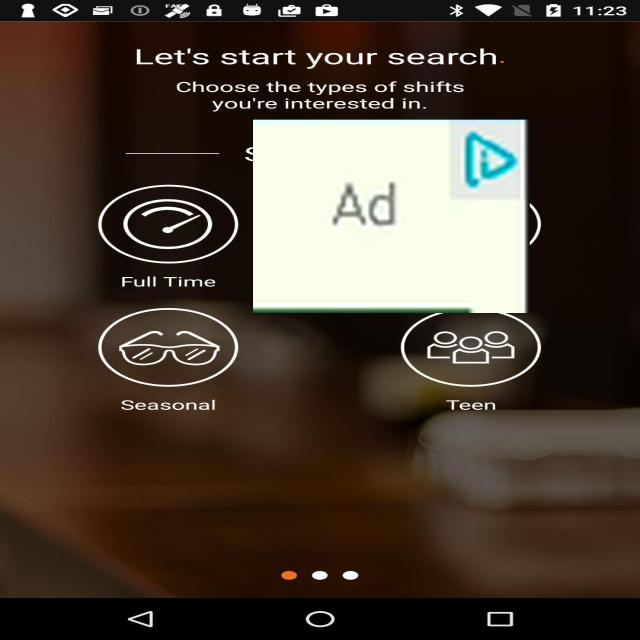sneaking: (253, 120, 530, 313)
